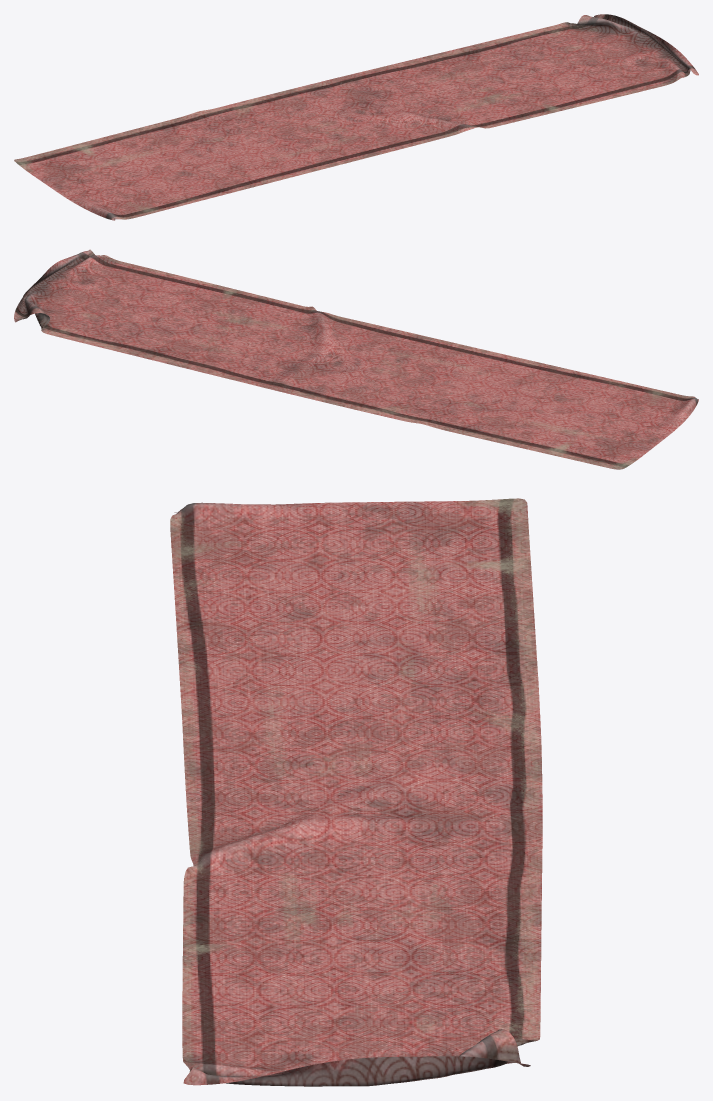
Rendered from SM_CarpetB.fbx.
3 views of the same model, one above another, from view 1: azimuth 30°, elevation 25°; view 2: azimuth 150°, elevation 25°; view 3: azimuth 270°, elevation 25° (orthographic). The views are drawn at different scales.
Visible parts, largest first — view 1: SM_CarpetB_LOD0; view 2: SM_CarpetB_LOD0; view 3: SM_CarpetB_LOD0.
Part boxes in pixels (x1,y1,x2,y2): SM_CarpetB_LOD0: (14, 14, 698, 220); SM_CarpetB_LOD0: (14, 249, 698, 469); SM_CarpetB_LOD0: (170, 498, 542, 1086).
Size of the model in its own units: 779 by 208 by 15.79.
Materials: 1 (1 with a texture image).
